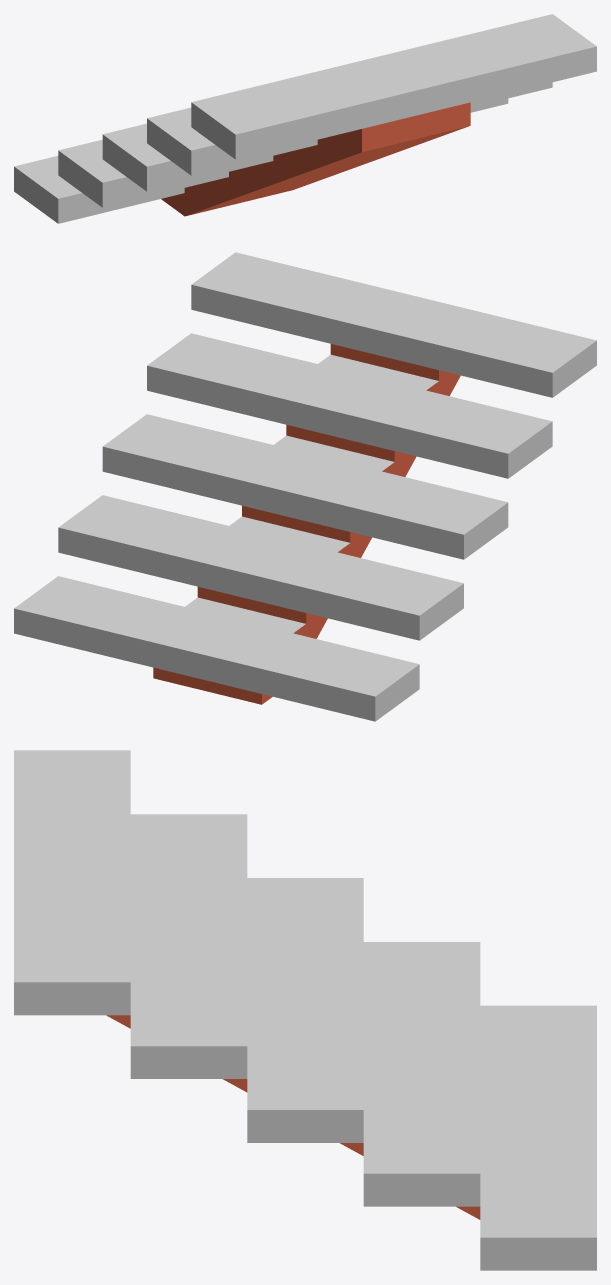
Rendered from stairs.glb.
3 views of the same model, one above another, from view 1: azimuth 30°, elevation 25°; view 2: azimuth 150°, elevation 25°; view 3: azimuth 270°, elevation 25° (orthographic). The views are drawn at different scales.
Visible parts, largest first — view 1: stairs; view 2: stairs; view 3: stairs.
Boxes of the visible parts, x1=… form: stairs: x1=14, y1=14, x2=596, y2=223; stairs: x1=14, y1=252, x2=596, y2=721; stairs: x1=14, y1=750, x2=596, y2=1270.
Bounding box in the file's own units: 4.83 × 3.1 × 5.14.
